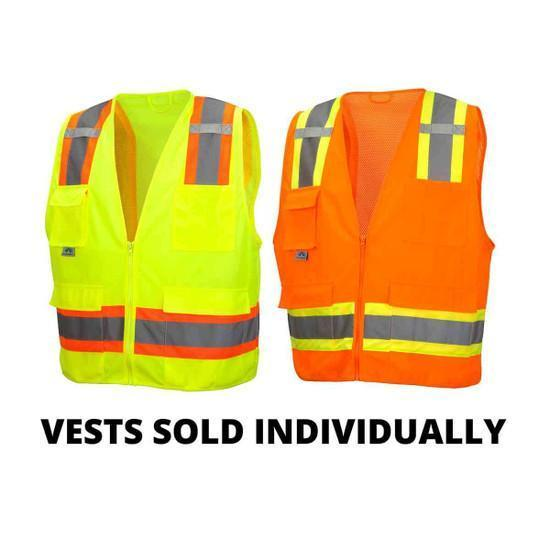vest: (272, 88, 494, 390), (45, 94, 265, 388)
